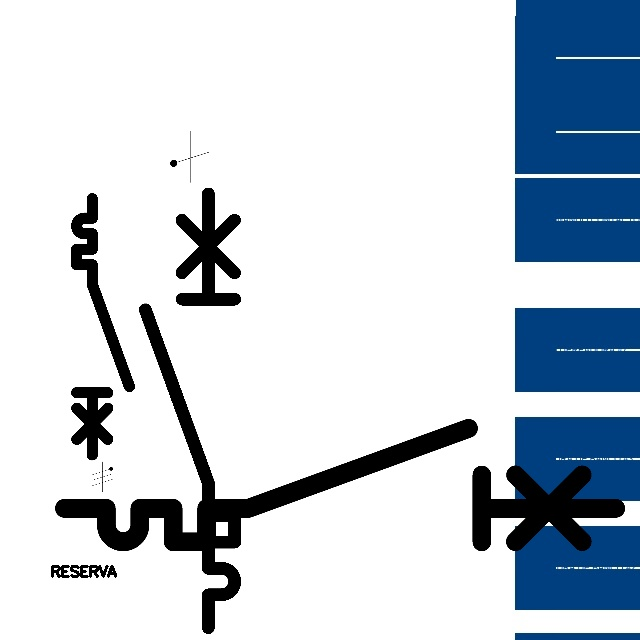interruptor_termomagnetico: (50, 414, 630, 556), (134, 182, 246, 638), (70, 192, 136, 462)
